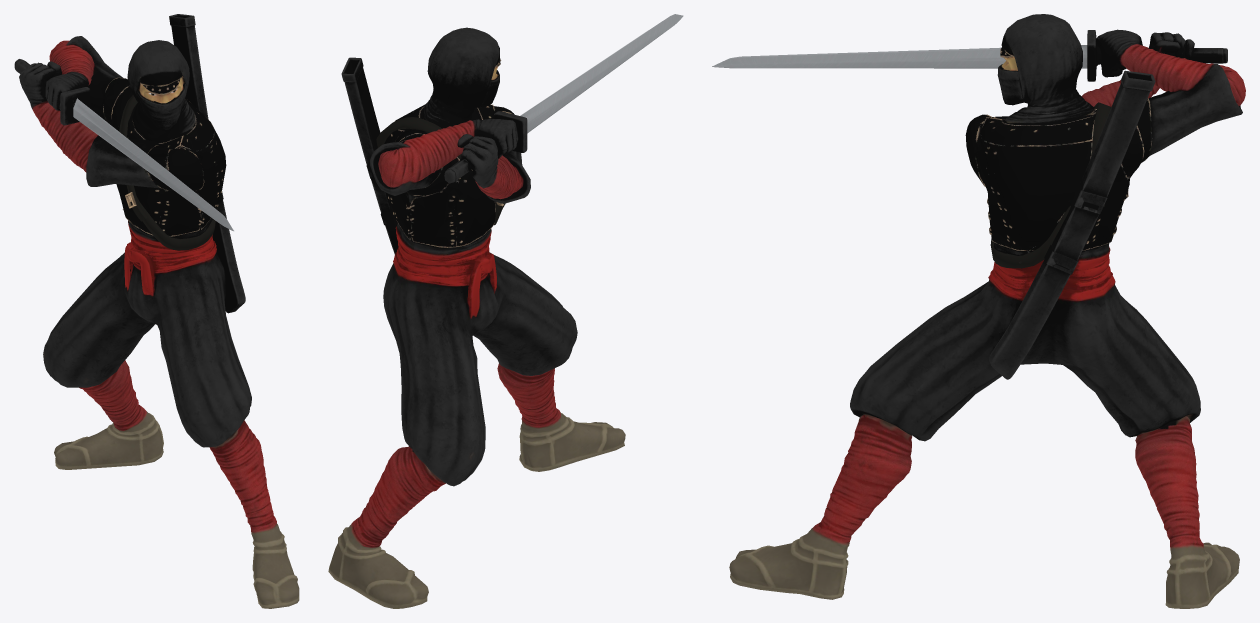
Rendered from MZ4250 - Ninja Melee 1.glb.
3 views of the same model, side by side, from view 1: azimuth 30°, elevation 25°; view 2: azimuth 150°, elevation 25°; view 3: azimuth 270°, elevation 25° (orthographic). The views are drawn at different scales.
Visible parts, largest first — view 1: Buckle 2.002; view 2: Buckle 2.002; view 3: Buckle 2.002.
Part boxes in pixels (x1,y1,x2,y2): Buckle 2.002: (14, 14, 299, 608); Buckle 2.002: (328, 14, 683, 608); Buckle 2.002: (712, 14, 1245, 608).
Size of the model in its own units: 1.15 by 3.4 by 2.92.
Materials: 4 (4 with a texture image).
